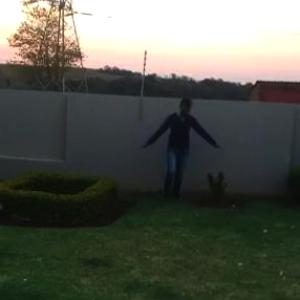land: (140, 93, 222, 208)
